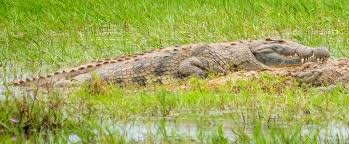crocodile: (0, 34, 331, 95)
